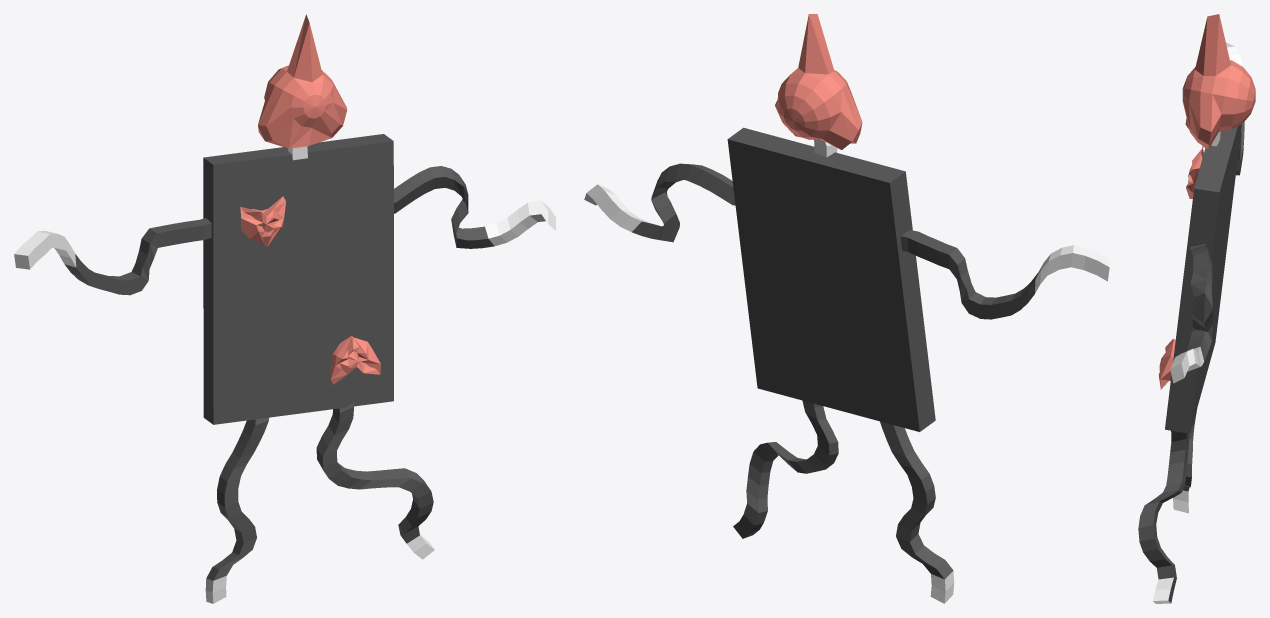
File: cardppl.glb
3 views of the same model, side by side, from view 1: azimuth 30°, elevation 25°; view 2: azimuth 150°, elevation 25°; view 3: azimuth 270°, elevation 25° (orthographic). The views are drawn at different scales.
Visible parts, largest first — view 1: mesh_748799925, mesh_1349137644, group_199045338, group_1124387250, group_441986675, group_1402433830, mesh_1872495768, mesh_498306588; view 2: mesh_748799925, mesh_1349137644, group_199045338, group_1402433830, group_441986675, group_1124387250; view 3: mesh_748799925, mesh_1349137644, group_1124387250, group_441986675, group_1402433830, mesh_1872495768, group_199045338, mesh_498306588.
Part boxes in pixels (x1,y1,x2,y2): mesh_748799925: (203, 134, 393, 424); mesh_1349137644: (258, 14, 347, 148); group_199045338: (14, 218, 211, 295); group_1124387250: (316, 402, 434, 559); group_441986675: (394, 166, 555, 248); group_1402433830: (205, 417, 268, 603); mesh_1872495768: (330, 336, 380, 384); mesh_498306588: (240, 196, 285, 246); mesh_748799925: (727, 127, 935, 431); mesh_1349137644: (775, 14, 862, 149); group_199045338: (900, 230, 1109, 319); group_1402433830: (880, 421, 954, 603); group_441986675: (584, 163, 735, 242); group_1124387250: (733, 400, 838, 538); mesh_748799925: (1165, 124, 1241, 433); mesh_1349137644: (1182, 14, 1255, 149); group_1124387250: (1138, 430, 1189, 603); group_441986675: (1170, 244, 1213, 383); group_1402433830: (1173, 410, 1196, 513); mesh_1872495768: (1158, 338, 1175, 389); group_199045338: (1226, 42, 1244, 175); mesh_498306588: (1186, 148, 1203, 198).
Bounding box in the file's own units: 1.89 × 1.9 × 0.3647.
